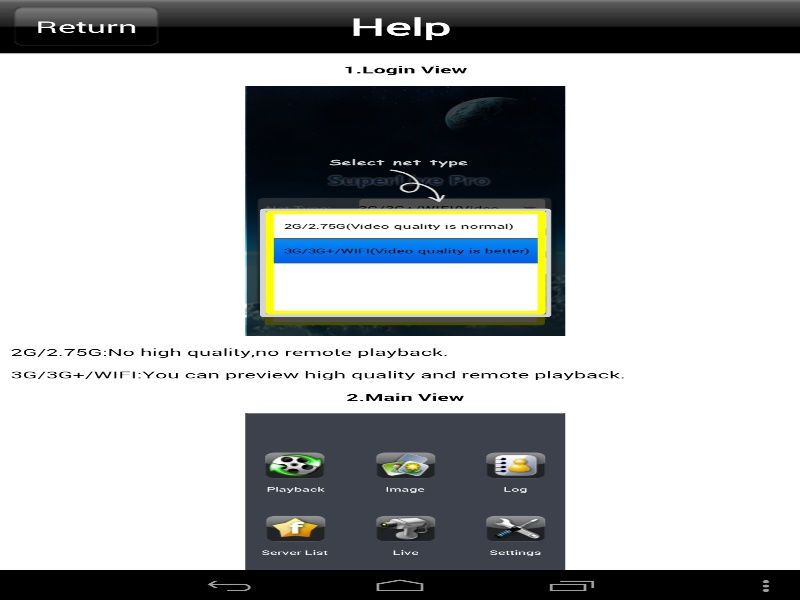Input: (285, 142, 750, 187), (285, 195, 750, 240), (285, 249, 750, 293)
